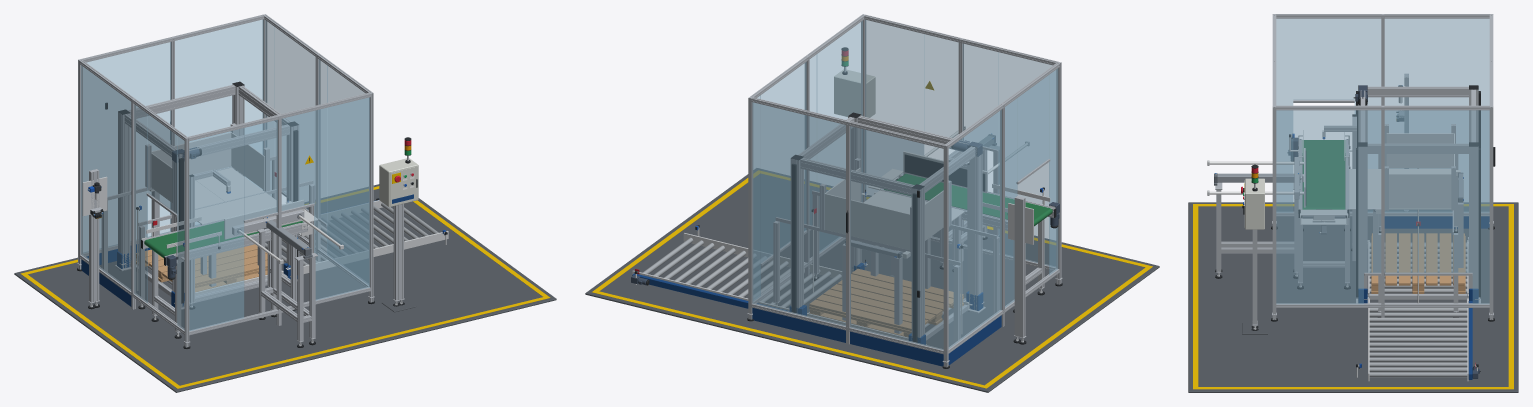
Rendered from palletizer.glb.
The picture shows the model from 3 angles, left to right: view 1: azimuth 30°, elevation 25°; view 2: azimuth 150°, elevation 25°; view 3: azimuth 270°, elevation 25°; orthographic projection. The views are drawn at different scales.
Visible parts, largest first — view 1: glass_guard, static_base, static_alu, static_inox, static_warn, static_roller, pallet, static_black, static_cabinet, belt_in, lift, cyl_2A_rod (+3 smaller); view 2: glass_guard, static_alu, static_base, static_inox, pallet, static_accent, static_roller, static_warn, static_black, static_cabinet, belt_in, cyl_2A_rod (+2 smaller); view 3: glass_guard, static_base, static_alu, static_roller, static_inox, pallet, static_warn, belt_in, lift, static_black, static_accent, static_cabinet (+4 smaller).
Boxes of the visible parts, x1,y1,x2,y2 form: glass_guard: [81, 19, 369, 331]; static_base: [14, 184, 556, 392]; static_alu: [77, 14, 404, 347]; static_inox: [82, 132, 448, 290]; static_warn: [20, 155, 550, 388]; static_roller: [265, 202, 438, 265]; pallet: [136, 244, 267, 292]; static_black: [77, 81, 447, 348]; static_cabinet: [379, 158, 418, 207]; belt_in: [144, 221, 303, 258]; lift: [117, 250, 297, 307]; cyl_2A_rod: [224, 200, 343, 264]; glass_guard: [752, 19, 1058, 349]; static_alu: [747, 14, 1062, 367]; static_base: [585, 168, 1159, 392]; static_inox: [632, 168, 1055, 334]; pallet: [809, 269, 963, 337]; static_accent: [632, 273, 1001, 366]; static_roller: [642, 237, 841, 307]; static_warn: [592, 81, 1152, 388]; static_black: [634, 47, 1062, 368]; static_cabinet: [834, 69, 875, 117]; belt_in: [884, 174, 1052, 226]; cyl_2A_rod: [903, 126, 1029, 193]; glass_guard: [1276, 18, 1489, 304]; static_base: [1188, 202, 1518, 392]; static_alu: [1215, 14, 1493, 325]; static_roller: [1298, 209, 1467, 377]; static_inox: [1289, 86, 1477, 381]; pallet: [1371, 233, 1465, 293]; static_warn: [1193, 183, 1513, 389]; belt_in: [1302, 140, 1345, 209]; lift: [1358, 240, 1478, 303]; static_black: [1215, 85, 1495, 371]; static_accent: [1384, 216, 1489, 379]; static_cabinet: [1244, 178, 1264, 229].
Size of the model in its own units: 3.8 by 2.02 by 2.8.
